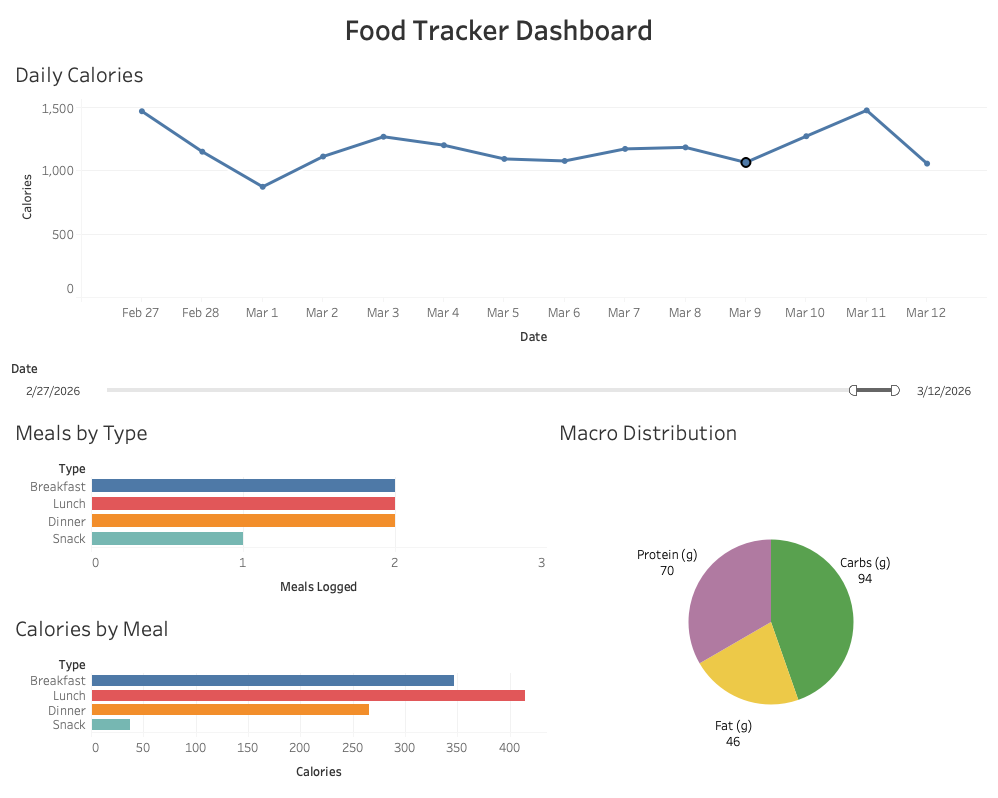

Layout of this report page (visuals, bound fields, positions):
{"tool":"tableau","page":{"name":"Food Tracker Dashboard","canvas":[1000,800],"ordinal":0},"visuals":[{"type":"title","box":[8,8,984,45]},{"type":"worksheet","title":"Daily Calories","mark":"Line","rows":["calories"],"cols":["date"],"box":[8,53,984,304.5]},{"type":"filter","title":"Daily Calories","param":"[federated.1nktio1082marg172ebhw0xr4uhe].[none:date:qk]","box":[8,357.5,984,53.7]},{"type":"worksheet","title":"Meals by Type","mark":"Bar","rows":["type"],"cols":["Calculation_0090277032980480"],"box":[8,411.2,544,196.1]},{"type":"worksheet","title":"Macro Distribution","mark":"Pie","box":[552,411.2,440,380.8]},{"type":"worksheet","title":"Calories by Meal","mark":"Bar","rows":["type"],"cols":["calories"],"box":[8,607.2,544,184.8]}]}

Visuals, with their boxes in screenshot pixels (x1, y1, x2, y2), scaled from the page's 1000x800 canvas onto the 998x798 screenshot:
title: (x1=8, y1=8, x2=990, y2=53)
"Daily Calories" worksheet (Line marks): (x1=8, y1=53, x2=990, y2=357)
"Daily Calories" filter: (x1=8, y1=357, x2=990, y2=410)
"Meals by Type" worksheet (Bar marks): (x1=8, y1=410, x2=551, y2=606)
"Macro Distribution" worksheet (Pie marks): (x1=551, y1=410, x2=990, y2=790)
"Calories by Meal" worksheet (Bar marks): (x1=8, y1=606, x2=551, y2=790)
